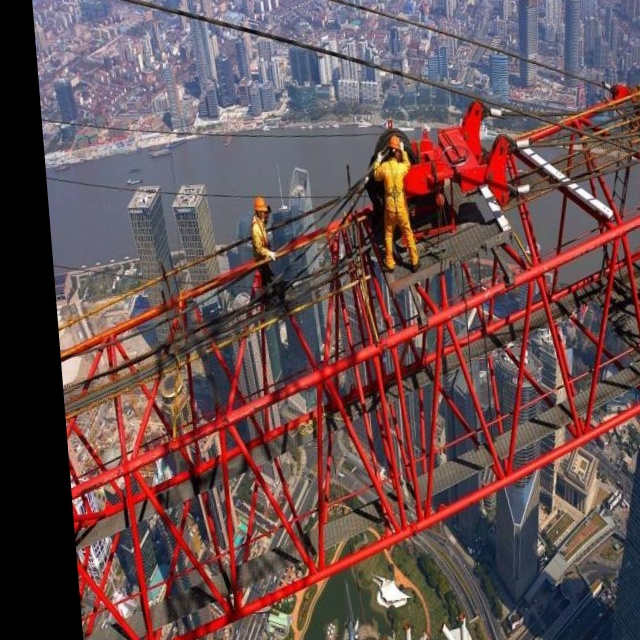Con_Casco: (388, 134, 403, 162), (253, 195, 267, 223)
